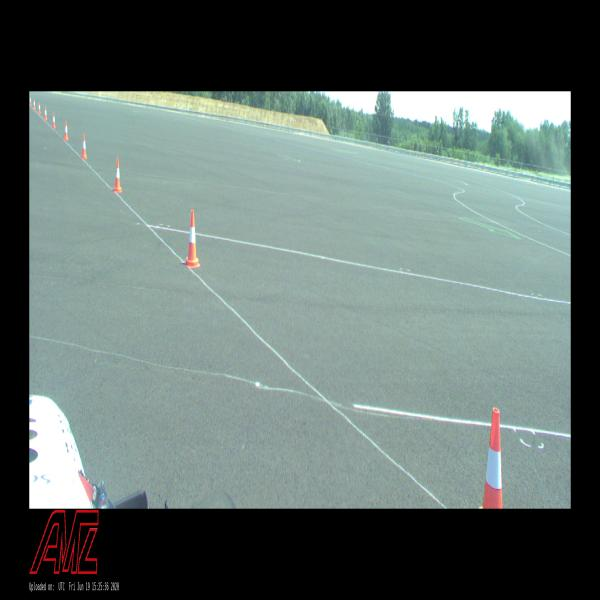orange_cone: (482, 407, 502, 509), (184, 210, 200, 268), (112, 158, 122, 193), (81, 134, 87, 159), (63, 120, 69, 142), (51, 112, 56, 129), (44, 106, 48, 121), (37, 102, 41, 115), (32, 98, 36, 109), (30, 96, 32, 106)
